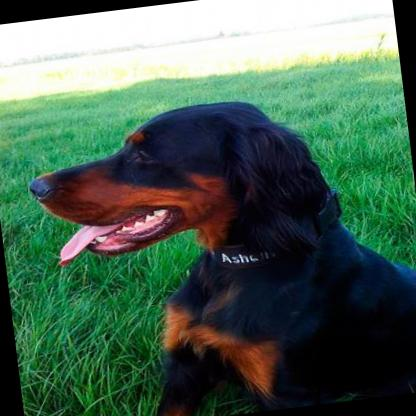Gordon_setter: (21, 77, 416, 416)
